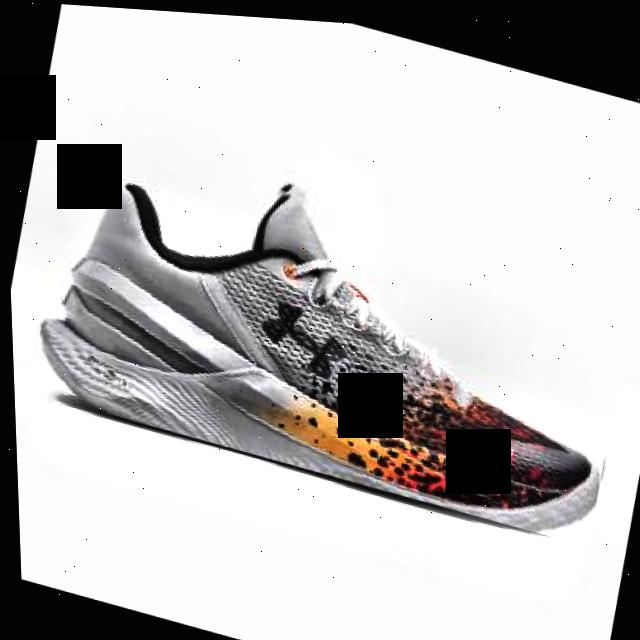shoe: (17, 120, 640, 542)
